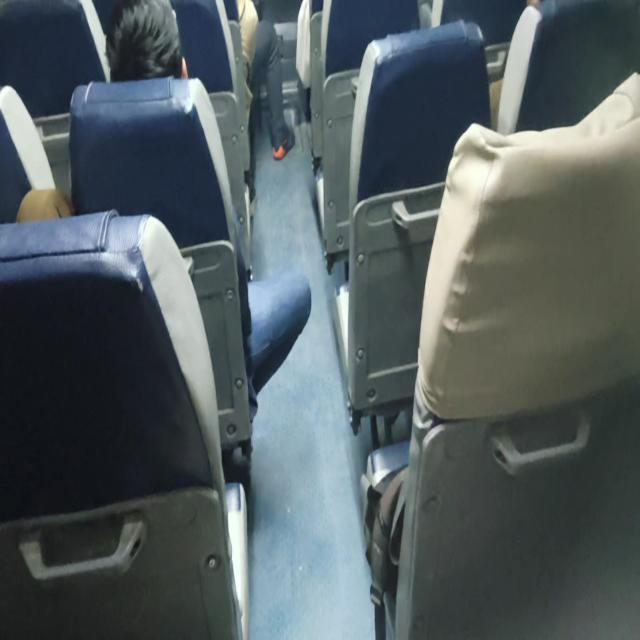person: (104, 0, 312, 424), (235, 1, 296, 160), (104, 0, 189, 82)
